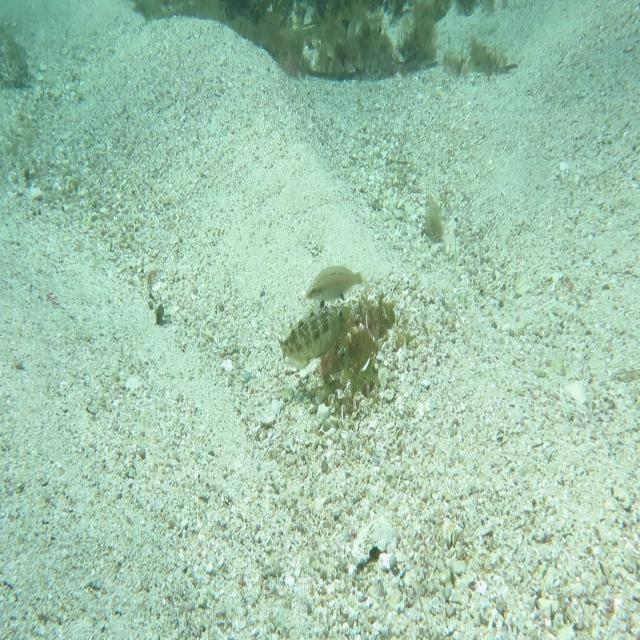BEND: (269, 290, 355, 374)
female: (302, 259, 363, 308)
nest: (303, 288, 399, 424)
vegetation: (131, 0, 527, 32), (261, 26, 440, 83), (421, 196, 449, 250)
